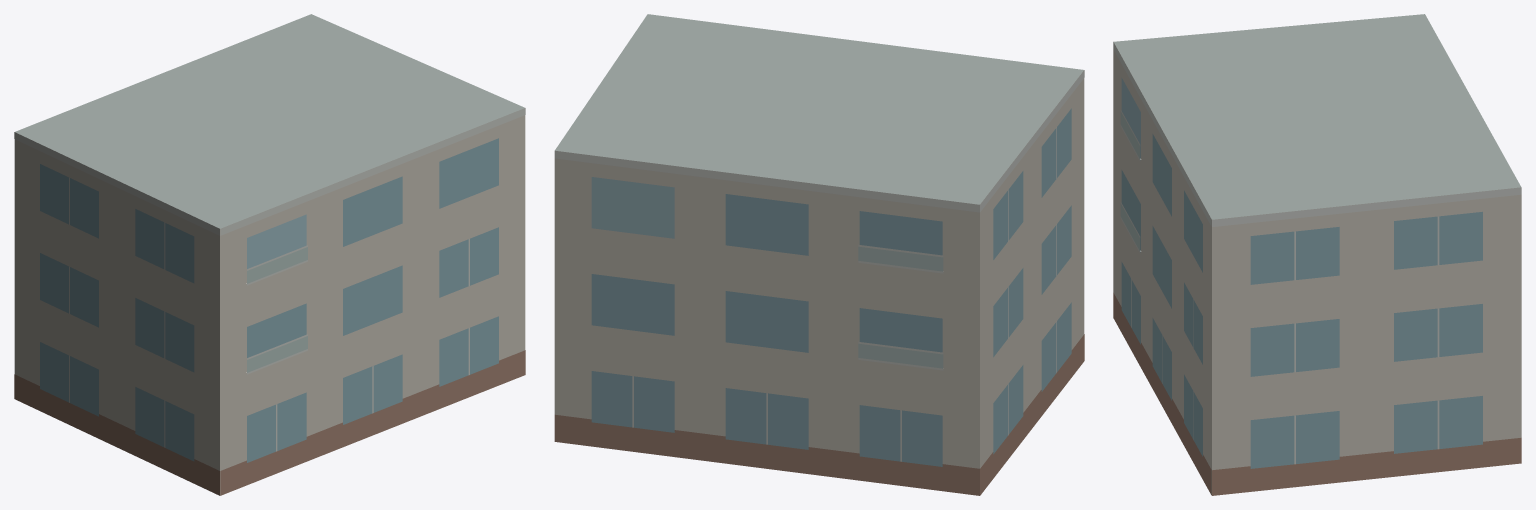
File: survey-upis-32928249.glb
3 views of the same model, side by side, from view 1: azimuth 30°, elevation 25°; view 2: azimuth 150°, elevation 25°; view 3: azimuth 270°, elevation 25° (orthographic). The views are drawn at different scales.
Parts seen in each view (by area): view 1: survey-upis-32928249.tmp; view 2: survey-upis-32928249.tmp; view 3: survey-upis-32928249.tmp.
Part boxes in pixels (box(x1,y1,x2,y2)): survey-upis-32928249.tmp: box(14, 14, 525, 495); survey-upis-32928249.tmp: box(554, 14, 1084, 495); survey-upis-32928249.tmp: box(1113, 14, 1521, 495).
Size of the model in its own units: 14.64 by 9.15 by 12.27.
